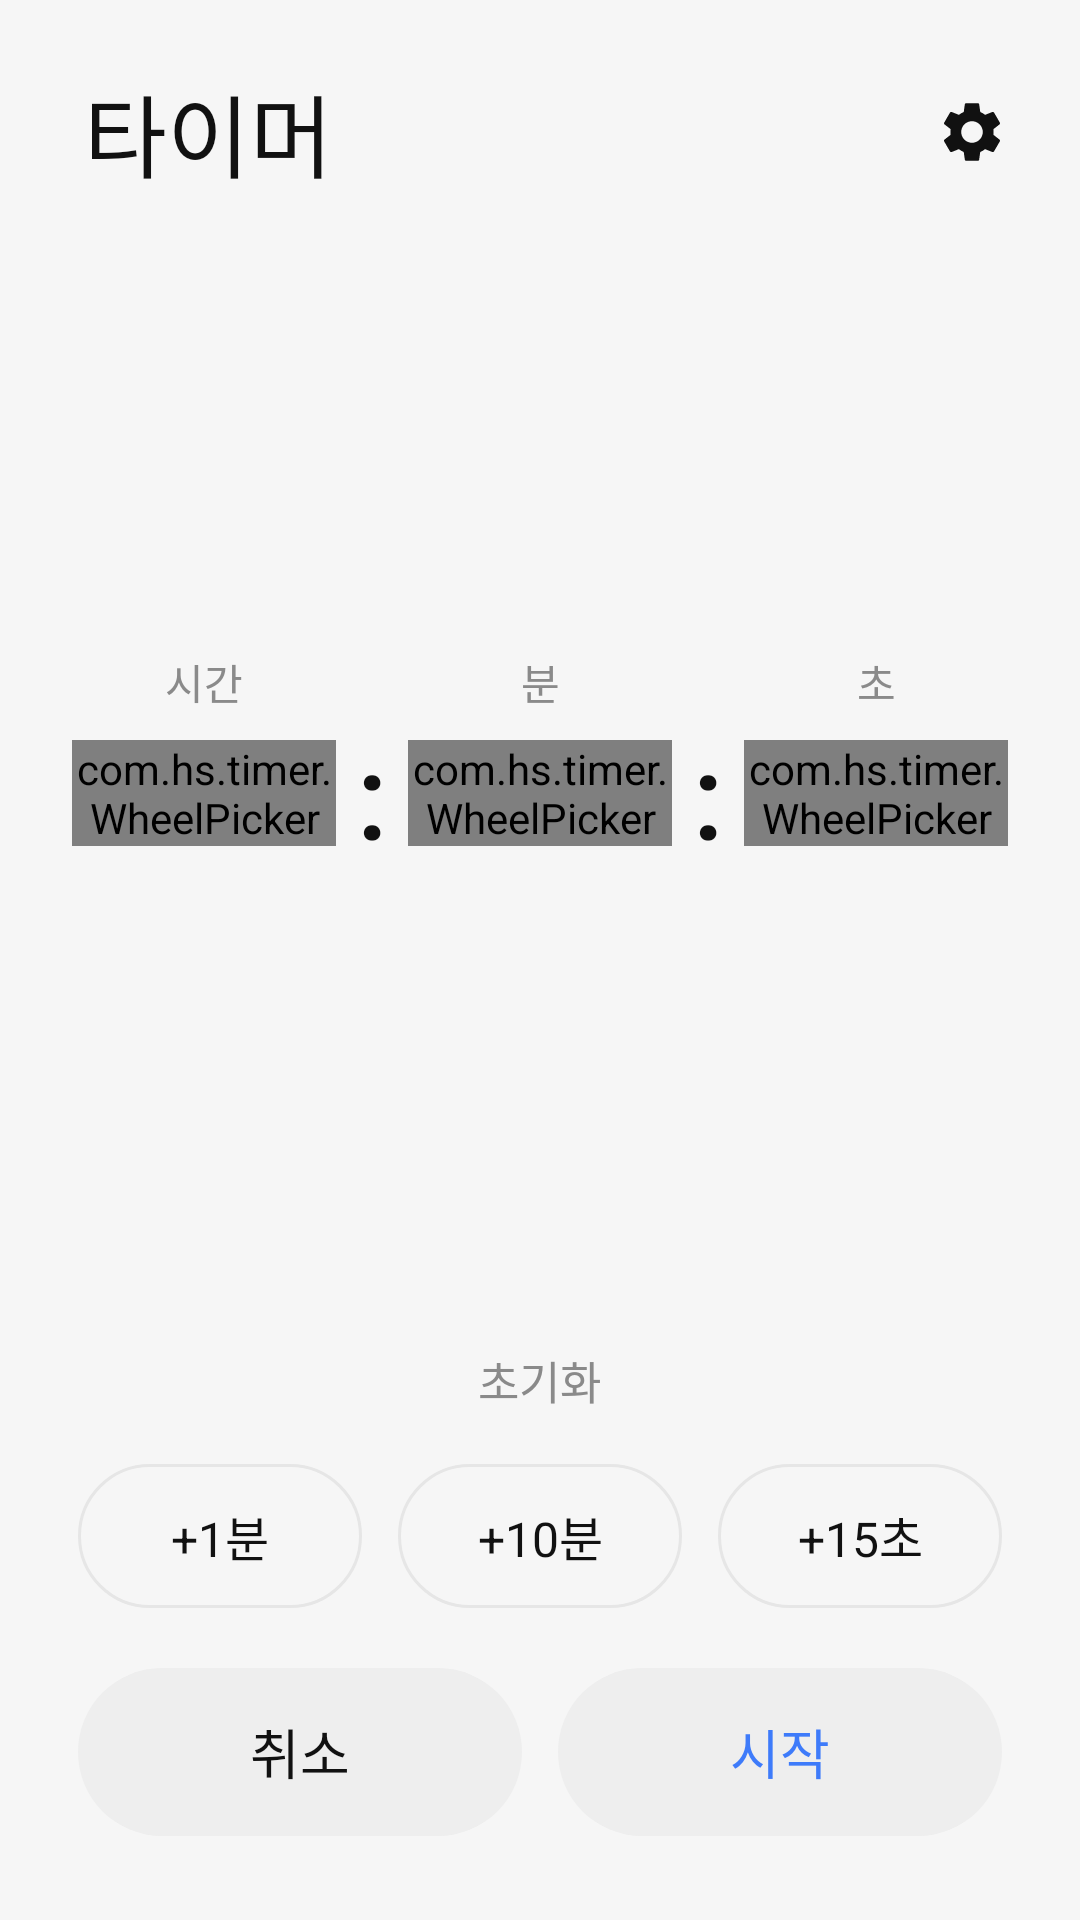

Where to tap for icons on this 1080*1920 app screen, as [x,y]:
설정: [972,132]
